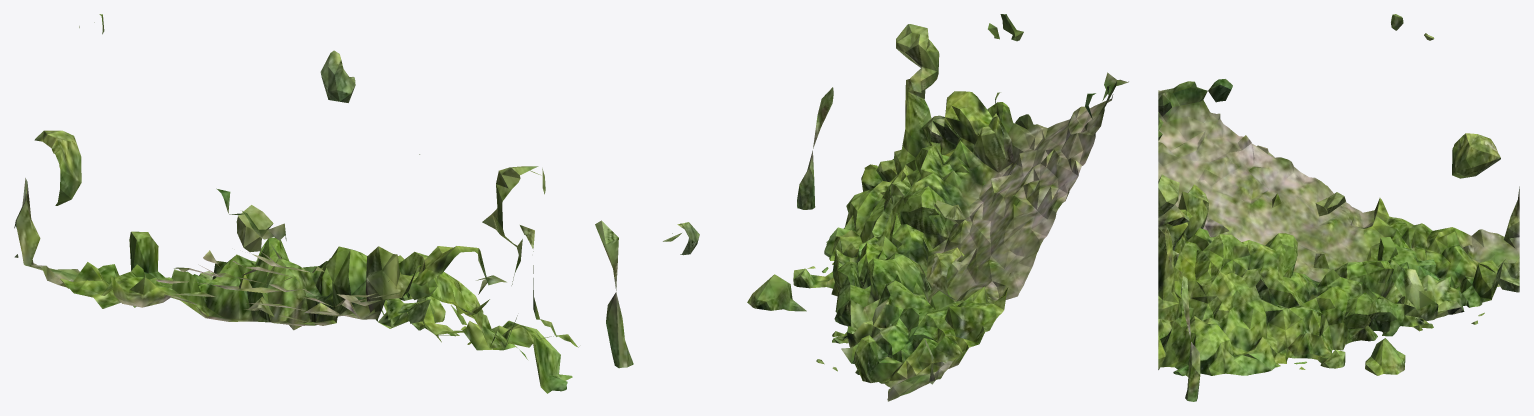
3 renders of one model, left to right at view 1: azimuth 30°, elevation 25°; view 2: azimuth 150°, elevation 25°; view 3: azimuth 270°, elevation 25°, orthographic. The views are drawn at different scales.
Size of the model in its own units: 23.91 by 19.77 by 26.11.
3 materials, 3 textured.
